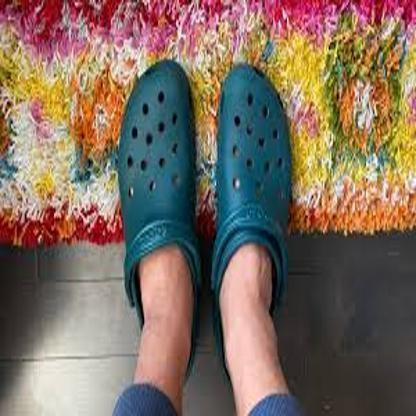not trash: (118, 63, 204, 289), (214, 67, 295, 290)
